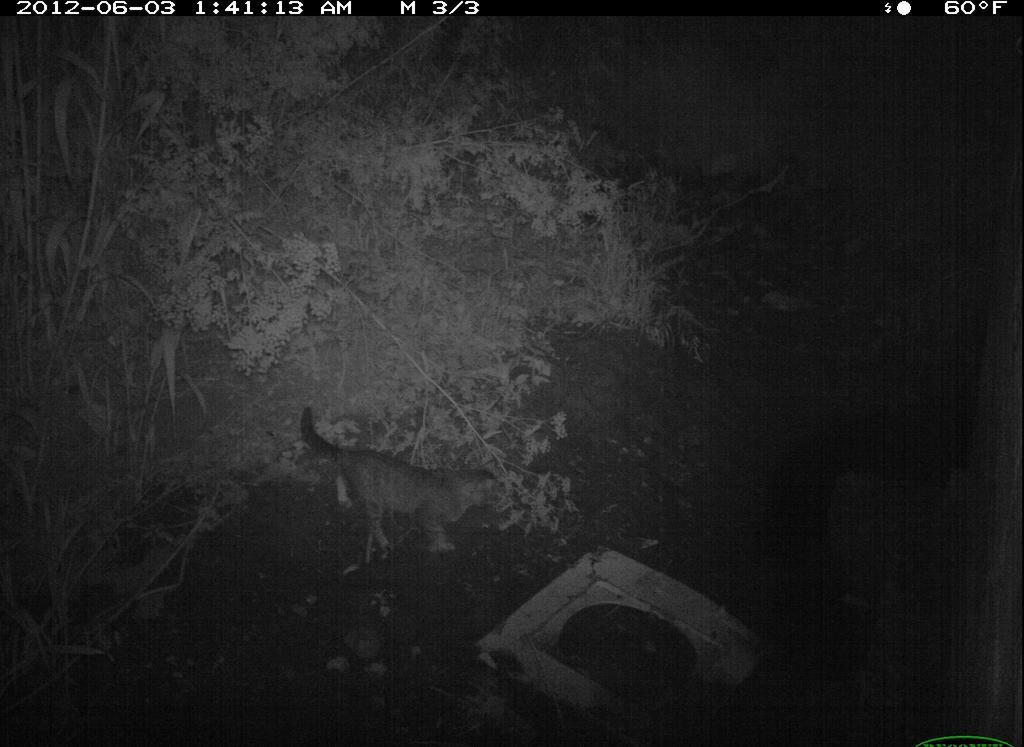cat: (296, 397, 506, 565)
